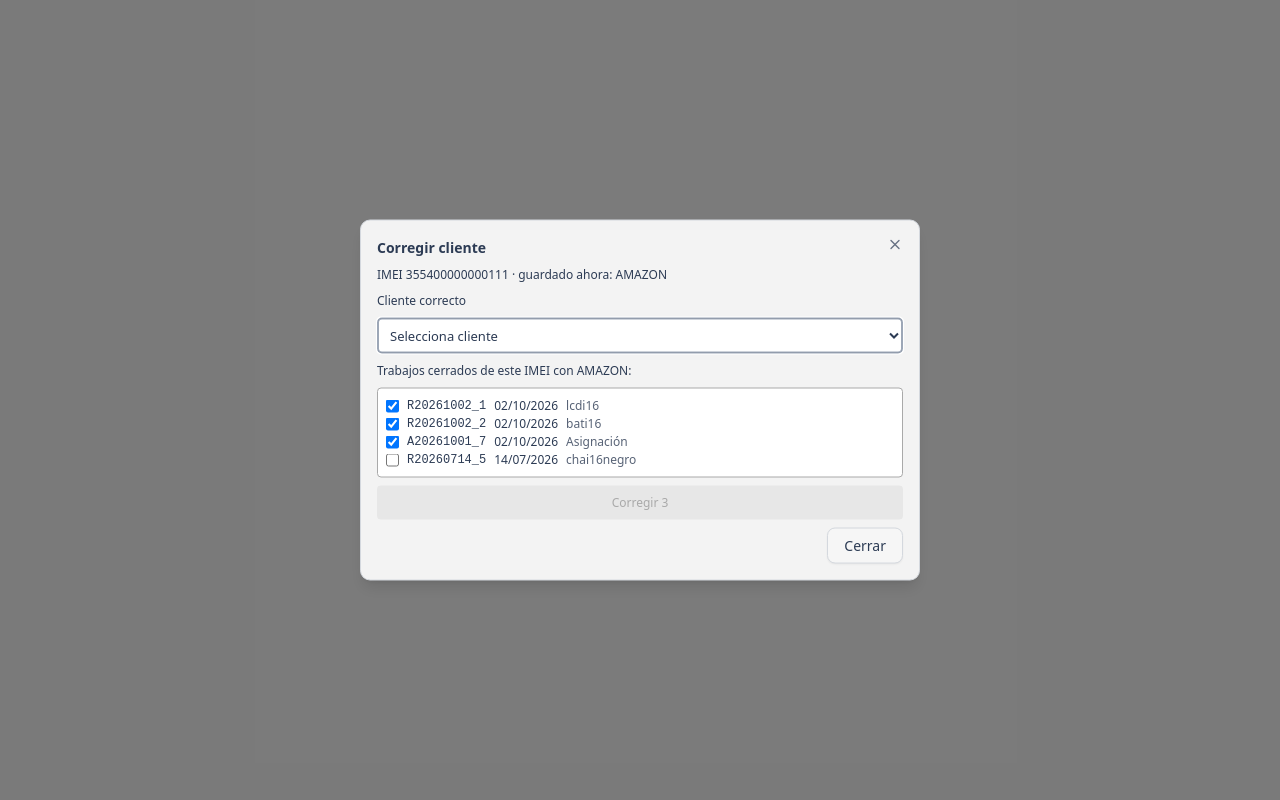
Scenario: CorregirClienteDialog › desmarcar todos deshabilita el botón
expect the text "R20261002_1" is shown: met, box [407,396,486,414]
Select "WEB" in the dropdown labelled "Cliente correcto". click: (640, 336)
box: [377,318,903,354]
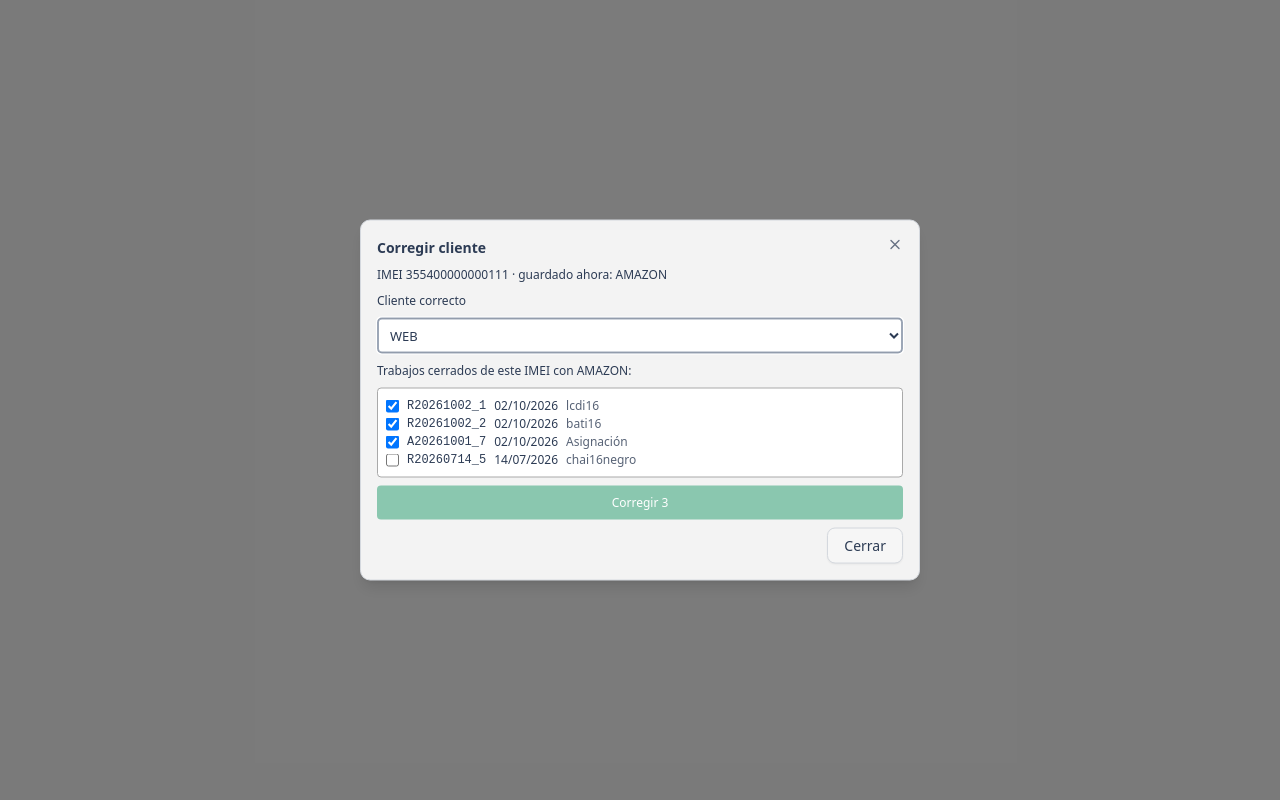
Click the checkbox labelled "R20261002_1 02/10/2026 lcdi16". click: (392, 406)
box: [386,399,399,412]
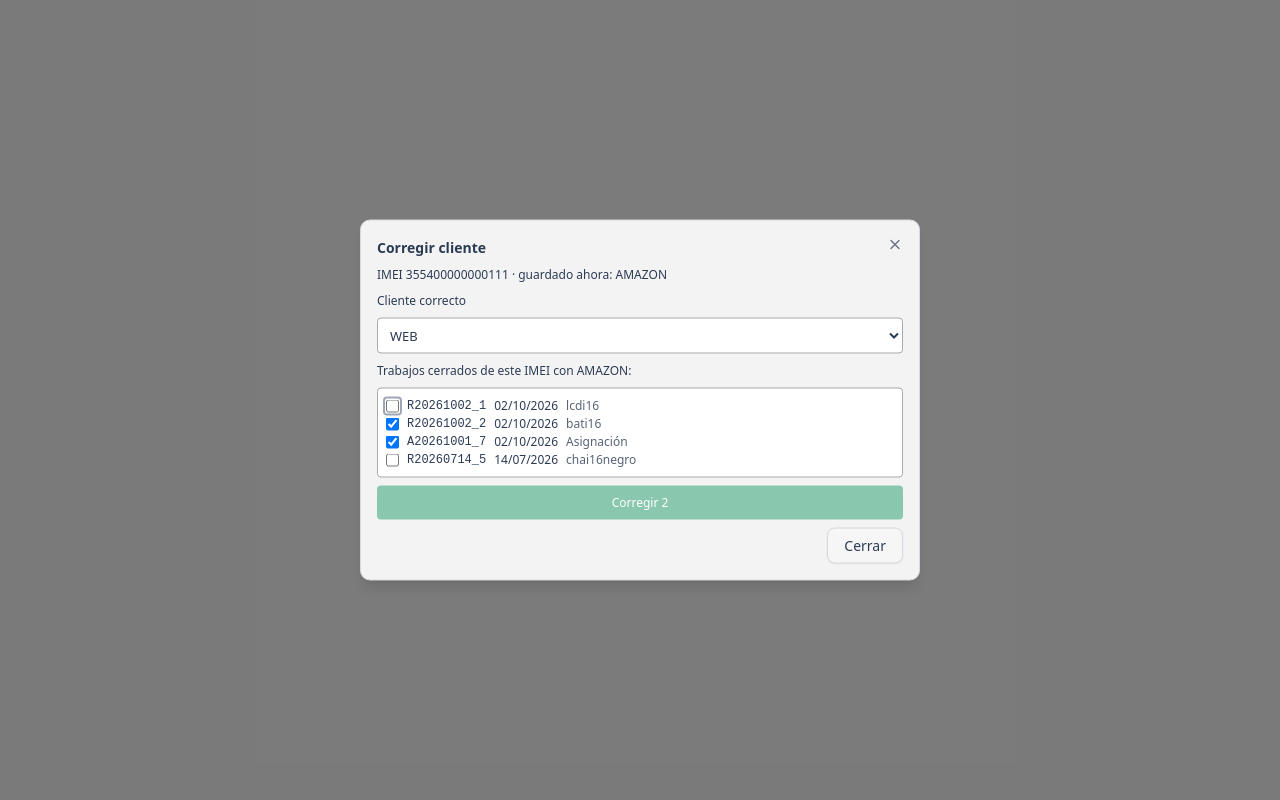
Click the checkbox labelled "R20261002_2 02/10/2026 bati16". click: (392, 424)
box: [386,417,399,430]
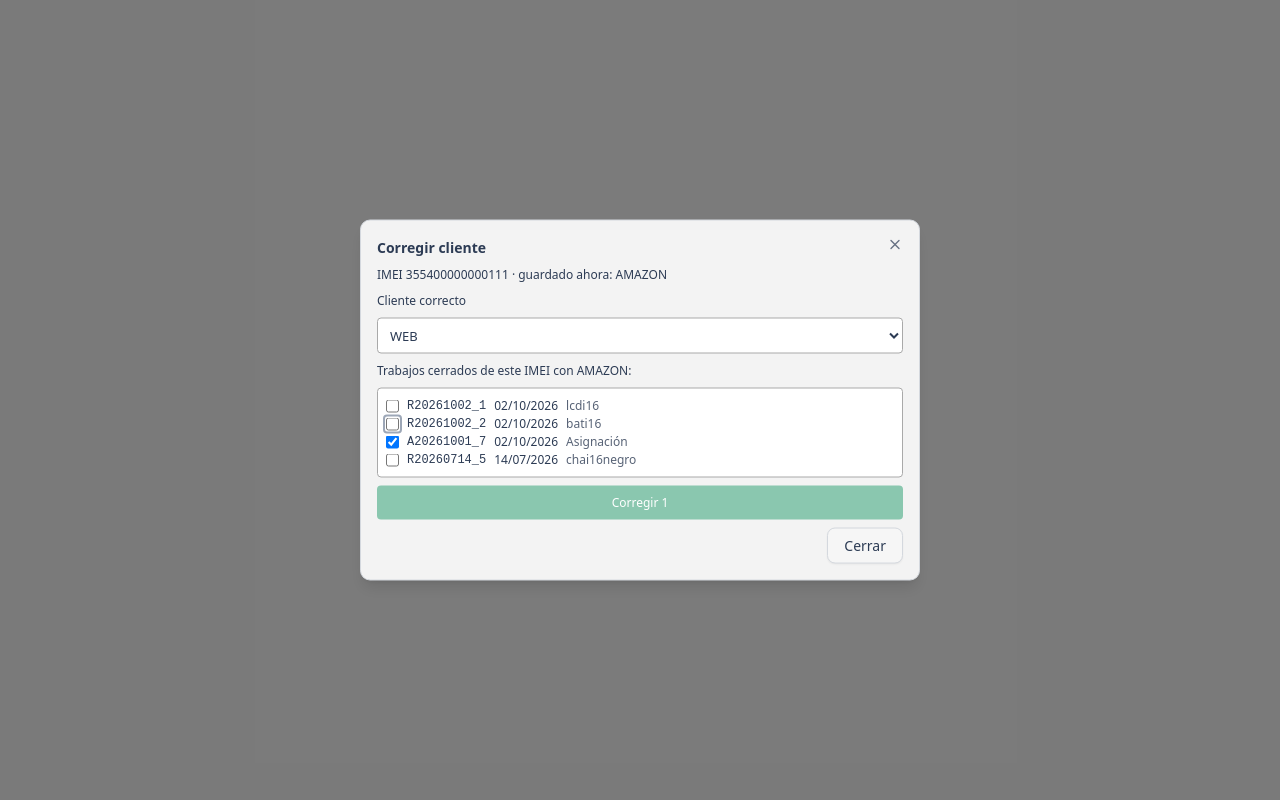
Click the checkbox labelled "A20261001_7 02/10/2026 Asignación". click: (392, 442)
box: [386,435,399,448]
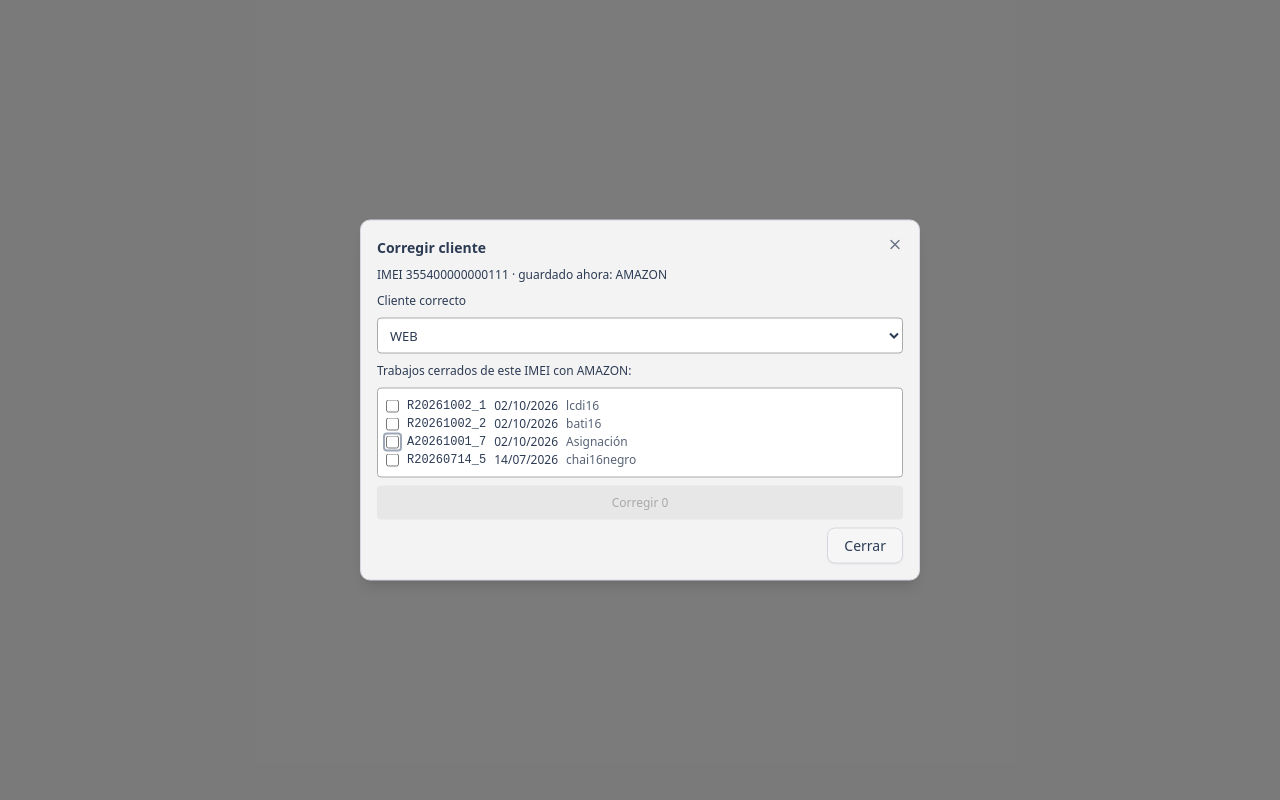
expect the button "Corregir 0" is disabled: met, box [377,486,903,520]
